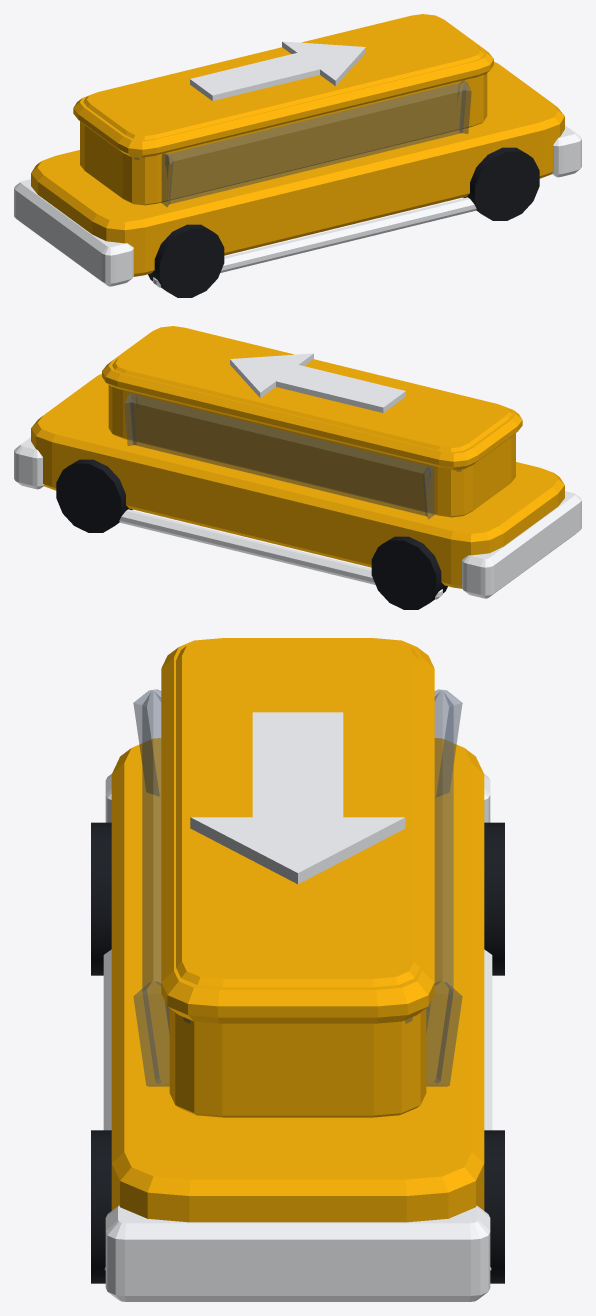
The model's file is bus.glb.
The picture shows the model from 3 angles, top to bottom: view 1: azimuth 30°, elevation 25°; view 2: azimuth 150°, elevation 25°; view 3: azimuth 270°, elevation 25°; orthographic projection. The views are drawn at different scales.
Parts seen in each view (by area): view 1: cabin, body, side_window, wheel (×2), roof, roof_arrow, bumper_rear, sill, bumper_front; view 2: cabin, body, side_window, wheel (×2), roof, roof_arrow, bumper_rear, sill, bumper_front; view 3: cabin, body, bumper_front, roof, side_window (×2), roof_arrow, wheel (×4), sill (×2).
Boxes of the visible parts, x1=… form: cabin: x1=80, y1=14, x2=487, y2=205; body: x1=31, y1=62, x2=564, y2=276; side_window: x1=161, y1=80, x2=471, y2=206; wheel (×2): x1=148, y1=147, x2=539, y2=297; roof: x1=73, y1=15, x2=493, y2=158; roof_arrow: x1=190, y1=41, x2=365, y2=100; bumper_rear: x1=14, y1=179, x2=133, y2=286; sill: x1=153, y1=197, x2=476, y2=287; bumper_front: x1=551, y1=125, x2=581, y2=177; cabin: x1=108, y1=326, x2=515, y2=517; body: x1=31, y1=374, x2=564, y2=588; side_window: x1=124, y1=392, x2=434, y2=518; wheel (×2): x1=56, y1=459, x2=447, y2=609; roof: x1=102, y1=327, x2=522, y2=470; roof_arrow: x1=230, y1=353, x2=405, y2=412; bumper_rear: x1=462, y1=491, x2=581, y2=598; sill: x1=119, y1=509, x2=442, y2=599; bumper_front: x1=14, y1=437, x2=44, y2=489; cabin: x1=169, y1=638, x2=426, y2=1117; body: x1=111, y1=738, x2=484, y2=1222; bumper_front: x1=105, y1=1205, x2=490, y2=1301; roof: x1=161, y1=640, x2=434, y2=1023; side_window (×2): x1=133, y1=689, x2=462, y2=1086; roof_arrow: x1=190, y1=712, x2=405, y2=884; wheel (×4): x1=91, y1=822, x2=504, y2=1283; sill (×2): x1=103, y1=949, x2=492, y2=1270.
Size of the model in its own units: 2.67 by 0.842 by 1.
